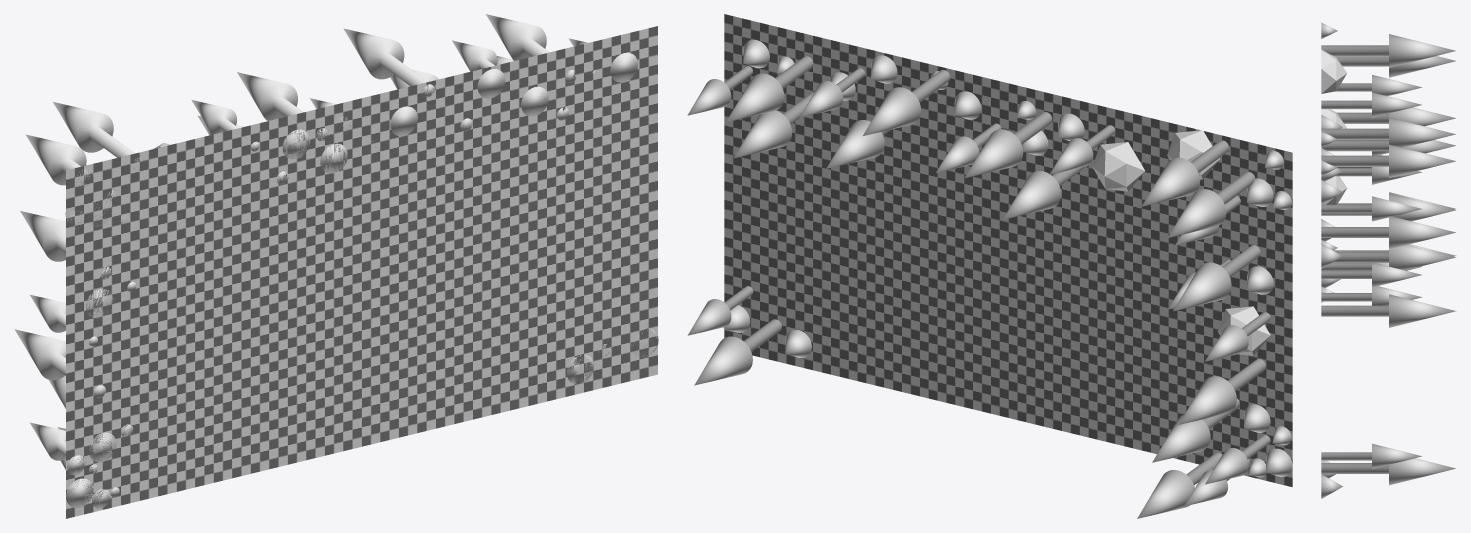
The model's file is forest10.dae.
3 renders of one model, left to right at view 1: azimuth 30°, elevation 25°; view 2: azimuth 150°, elevation 25°; view 3: azimuth 270°, elevation 25°, orthographic. The views are drawn at different scales.
Visible parts, largest first — view 1: Plane.012, Cone.695, Cone.670, Cone.687, Cone.696, Cone.174, Cone.673, Cone.632, Cone.629, Cone.597, Cone.677, Cone.665; view 2: Plane.012, Cone.632, Cone.670, Cone.706, Cone.687, Cone.695, Cone.696, Cone.174, Cone.673, Cone.669, Cone.622, Cone.684 (+13 smaller); view 3: Cone.669, Cone.695, Cone.670, Cone.696, Cone.687, Cone.706, Cone.622, Cone.632, Cone.629, Cone.665, Cone.673, Cone.711 (+16 smaller).
Boxes of the visible parts, left/top/right/bottom form: Plane.012: left=66, top=26, right=657, bottom=518; Cone.695: left=343, top=28, right=434, bottom=97; Cone.670: left=53, top=102, right=142, bottom=169; Cone.687: left=237, top=72, right=328, bottom=140; Cone.696: left=486, top=14, right=575, bottom=82; Cone.174: left=14, top=329, right=105, bottom=398; Cone.673: left=25, top=134, right=116, bottom=201; Cone.632: left=20, top=211, right=110, bottom=279; Cone.629: left=191, top=100, right=259, bottom=151; Cone.597: left=30, top=294, right=97, bottom=346; Cone.677: left=29, top=422, right=97, bottom=473; Cone.665: left=452, top=40, right=519, bottom=84; Plane.012: left=724, top=14, right=1292, bottom=487; Cone.632: left=1173, top=245, right=1260, bottom=311; Cone.670: left=1141, top=140, right=1229, bottom=206; Cone.706: left=694, top=319, right=781, bottom=385; Cone.687: left=965, top=112, right=1052, bottom=177; Cone.695: left=863, top=70, right=950, bottom=135; Cone.696: left=726, top=56, right=813, bottom=122; Cone.174: left=1178, top=359, right=1265, bottom=424; Cone.673: left=1168, top=171, right=1255, bottom=237; Cone.669: left=1137, top=452, right=1222, bottom=518; Cone.622: left=734, top=92, right=814, bottom=158; Cone.684: left=1002, top=165, right=1088, bottom=219; Cone.669: left=1321, top=294, right=1456, bottom=327; Cone.695: left=1321, top=144, right=1455, bottom=177; Cone.670: left=1321, top=34, right=1455, bottom=67; Cone.696: left=1321, top=215, right=1455, bottom=249; Cone.687: left=1321, top=117, right=1455, bottom=147; Cone.706: left=1321, top=458, right=1455, bottom=485; Cone.622: left=1332, top=245, right=1456, bottom=270; Cone.632: left=1337, top=107, right=1455, bottom=126; Cone.629: left=1321, top=92, right=1421, bottom=117; Cone.665: left=1321, top=196, right=1421, bottom=221; Cone.673: left=1335, top=56, right=1455, bottom=77; Cone.711: left=1321, top=443, right=1421, bottom=468.
Size of the model in its own units: 64.07 by 16 by 37.96.
2 materials, 1 textured.
